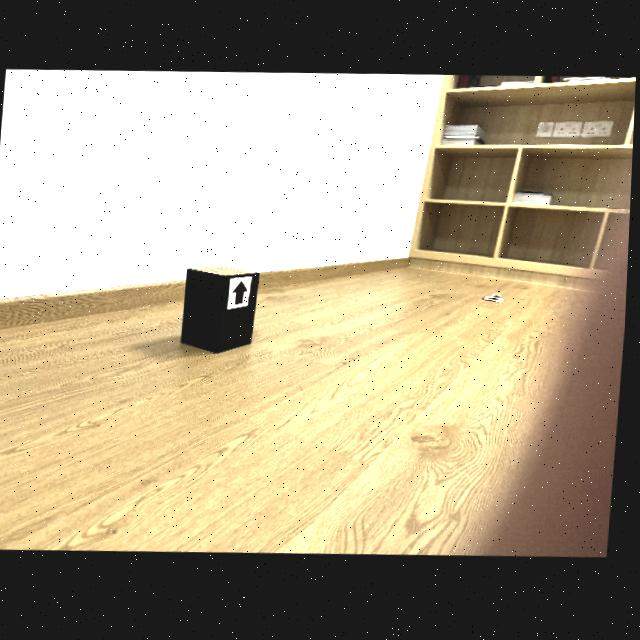UP: (234, 282, 250, 305)
